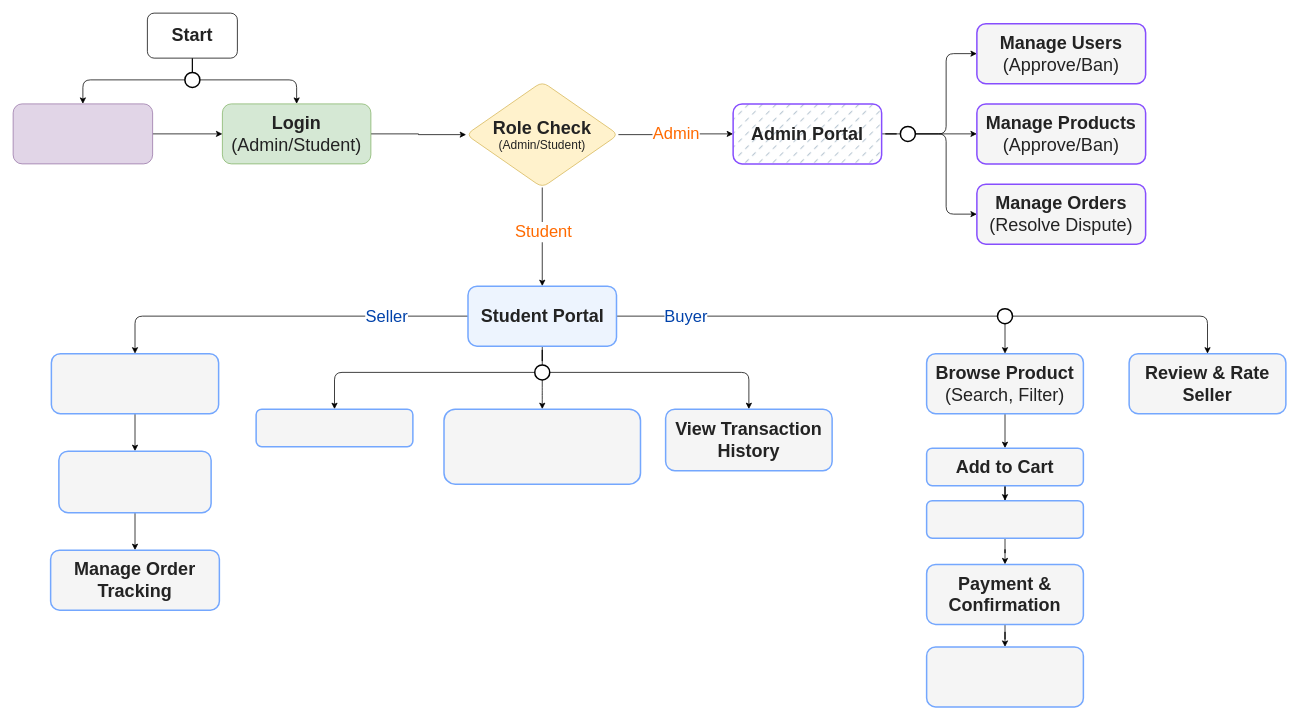
This 1300x721 diagram has some shape labels left out. The shapes that lost their labels are listed below. From the top down, each one's box as (x1, y1, x2, y2) in pixels, then its label:
(12, 103, 153, 164): Register (Student Only )
(50, 352, 219, 414): Product Listing (CRUD Operation)
(255, 408, 413, 447): Manage Profile
(443, 408, 641, 484): Manage Payment & Delivery Details
(58, 450, 212, 513): View & Manage Orders
(926, 500, 1084, 538): Place Order
(926, 646, 1084, 707): Order Tracking
